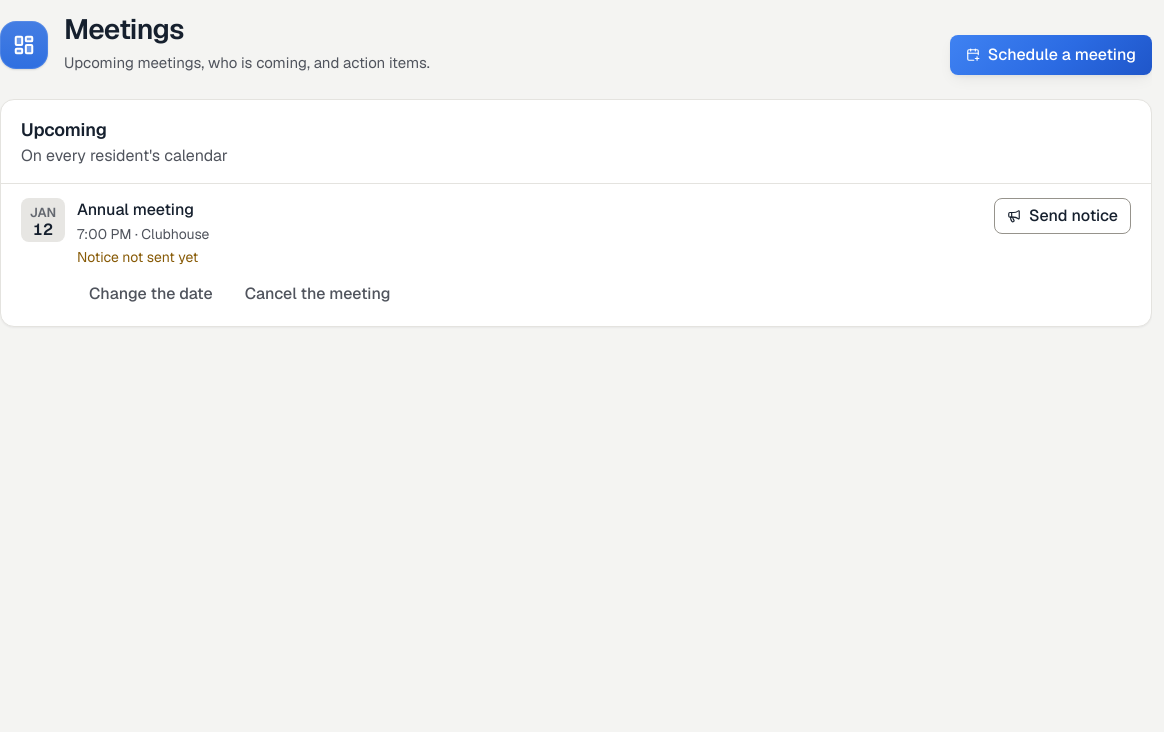
Test case: the meetings page › holds Send notice while the notice is going out, and toasts what the send said
The width and height of the screenshot is (1164, 732).
Click the button "Send notice" at {"x": 1062, "y": 216}, box [994, 198, 1131, 234]
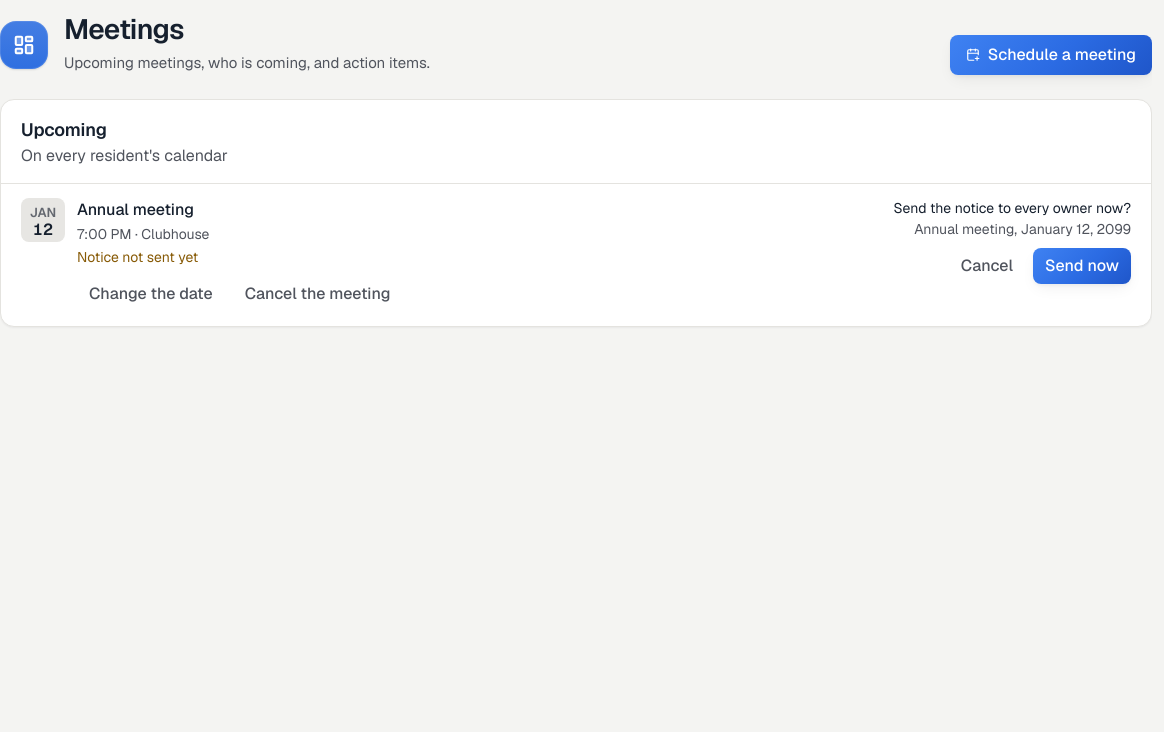
Click the button "Send now" at {"x": 1082, "y": 266}, box [1033, 248, 1131, 284]
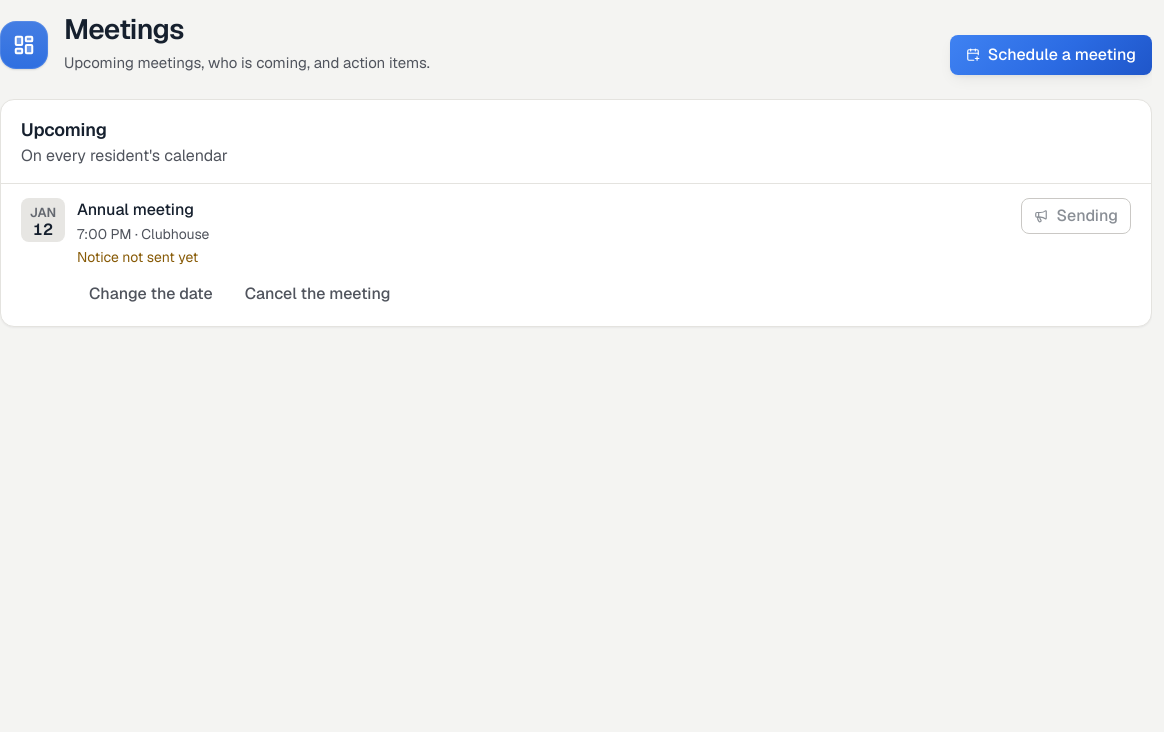
Expected: the text "Emailed" is not shown
Expected: the button "Sending" is disabled
Note: A press while it is held starts nothing.
Click the button "Sending" at {"x": 1076, "y": 216}, box [1021, 198, 1131, 234]
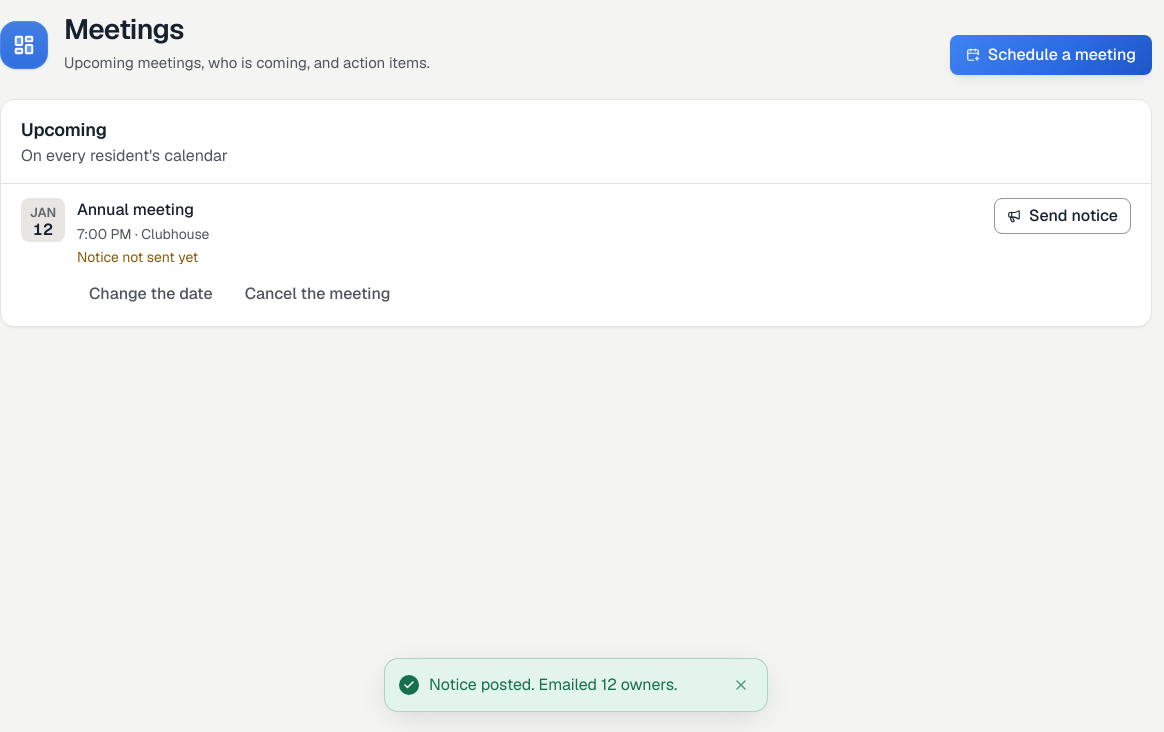
Expected: the text "Notice posted. Emailed 12 owners." is shown, [429, 670, 711, 700]
Expected: the button "Send notice" is enabled, [994, 198, 1131, 234]
